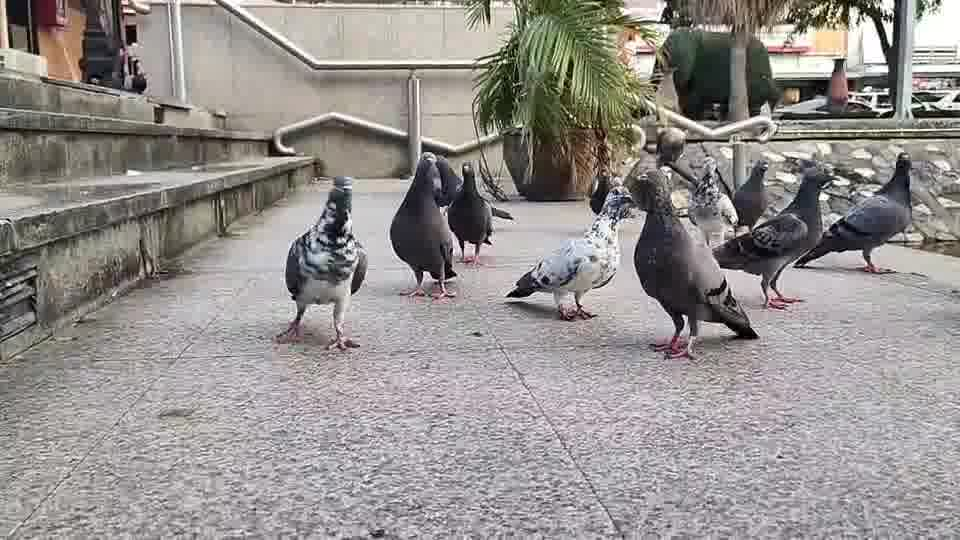Pigeon: (628, 166, 760, 361), (710, 157, 840, 310), (503, 184, 636, 321), (272, 174, 368, 351), (792, 150, 914, 274), (388, 151, 458, 300), (654, 126, 739, 245), (445, 159, 515, 266), (731, 158, 769, 232)
